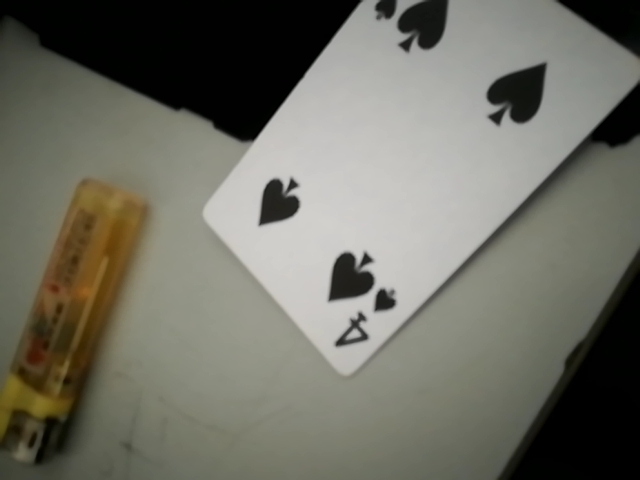ht 4: (189, 2, 637, 375)
